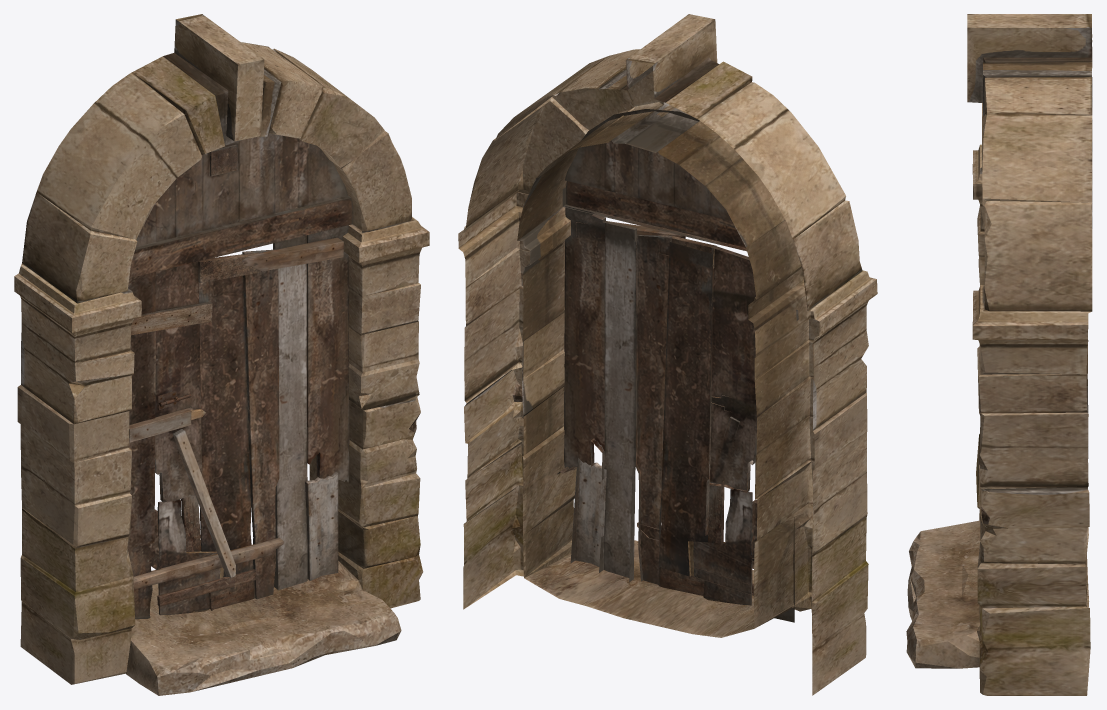
Rendered from door1.glb.
The picture shows the model from 3 angles, left to right: view 1: azimuth 30°, elevation 25°; view 2: azimuth 150°, elevation 25°; view 3: azimuth 270°, elevation 25°; orthographic projection.
Parts seen in each view (by area): view 1: Object_4; view 2: Object_4; view 3: Object_4.
Boxes of the visible parts, x1,y1,x2,y2 form: Object_4: (14,14,429,695); Object_4: (458,14,877,695); Object_4: (906,14,1092,695).
Size of the model in its own units: 1.86 by 2.92 by 0.8342.
Materials: 1 (1 with a texture image).
